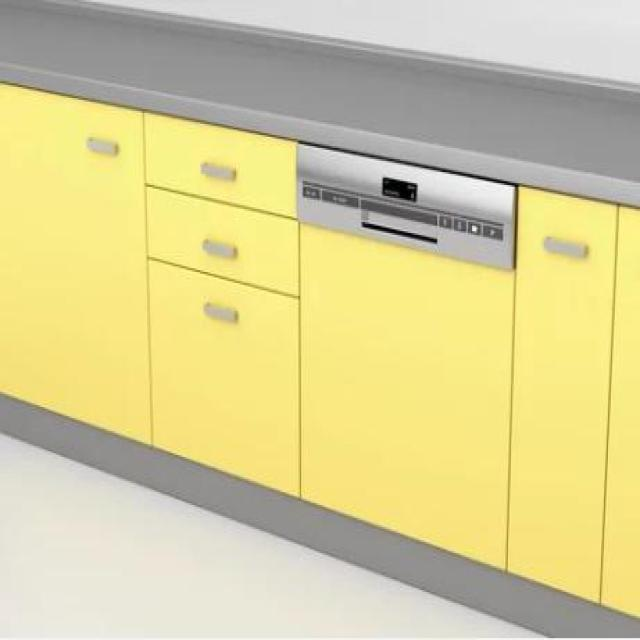dishwasher: (292, 140, 520, 572)
